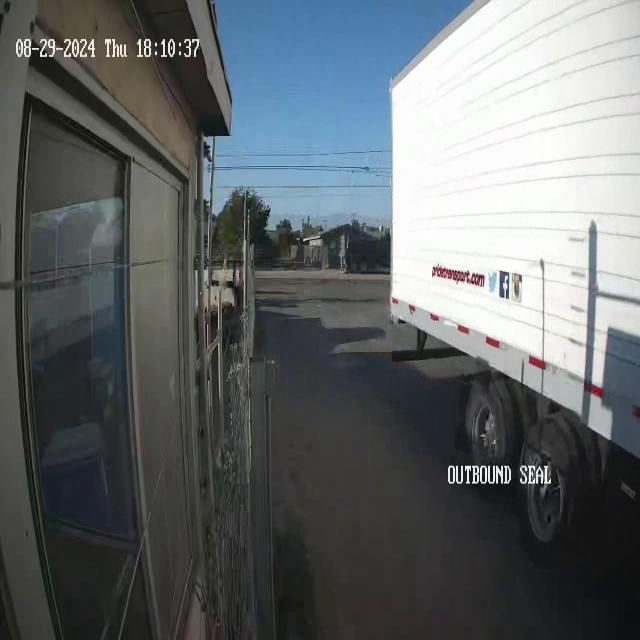TRUCK_IN: (387, 0, 639, 548)
